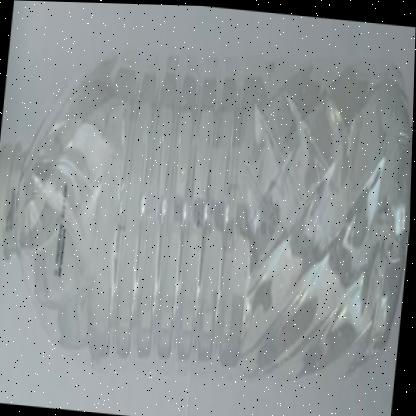bottle cap: (1, 1, 132, 412)
